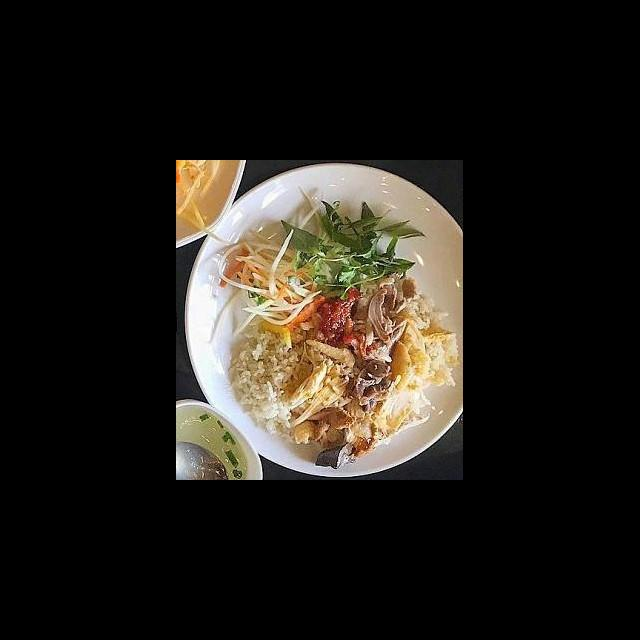com: (226, 323, 318, 442), (394, 291, 464, 391)
com ga: (201, 187, 464, 480)
rau ram: (277, 197, 428, 303)
thit ga: (282, 336, 358, 432), (379, 313, 428, 395)
